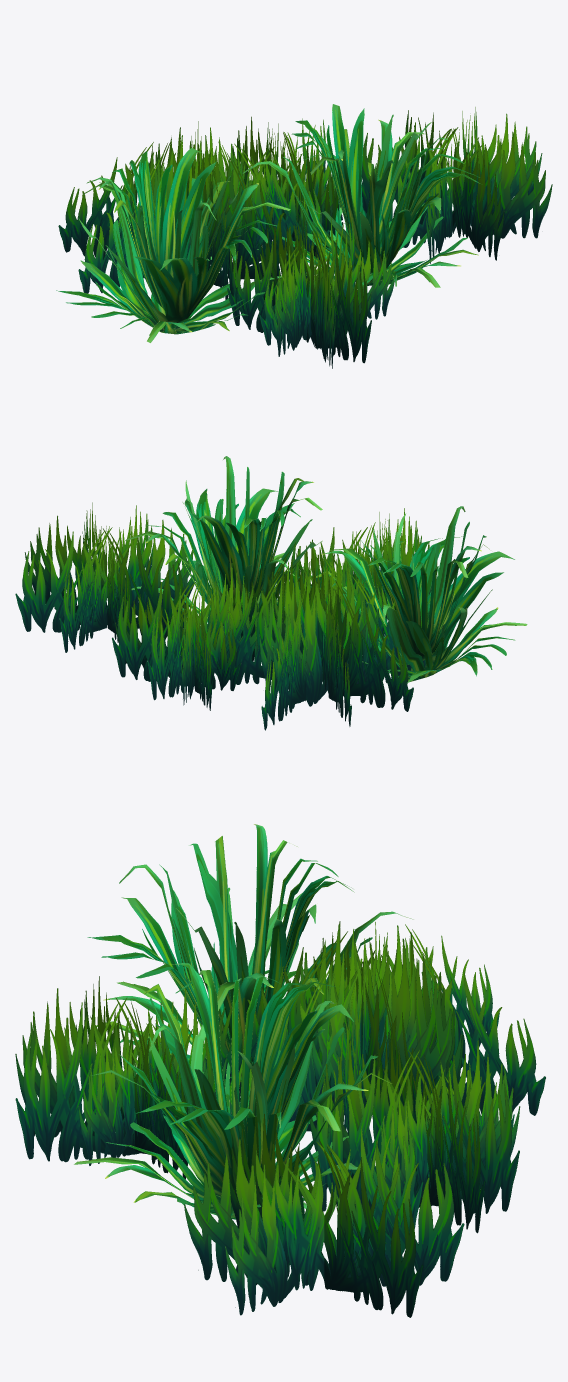
Rendered from grass.glb.
The picture shows the model from 3 angles, top to bottom: view 1: azimuth 30°, elevation 25°; view 2: azimuth 150°, elevation 25°; view 3: azimuth 270°, elevation 25°; orthographic projection. The views are drawn at different scales.
Parts seen in each view (by area): view 1: pPlane5, pPlane3, pPlane6, pPlane1, pPlane10, pPlane24, pPlane16, pPlane8, pPlane4, pPlane26, pPlane27, pPlane20 (+14 smaller); view 2: pPlane3, pPlane5, pPlane9, pPlane6, pPlane19, pPlane1, pPlane7, pPlane17, pPlane12, pPlane21, pPlane8, pPlane18 (+13 smaller); view 3: pPlane3, pPlane8, pPlane10, pPlane5, pPlane1, pPlane9, pPlane24, pPlane13, pPlane22, pPlane15, pPlane18, pPlane6 (+12 smaller).
Part boxes in pixels (x1=…): pPlane5: x1=82, y1=147, x2=238, y2=312; pPlane3: x1=291, y1=104, x2=457, y2=261; pPlane6: x1=78, y1=177, x2=290, y2=322; pPlane1: x1=242, y1=119, x2=480, y2=281; pPlane10: x1=361, y1=122, x2=552, y2=238; pPlane24: x1=257, y1=214, x2=371, y2=363; pPlane16: x1=58, y1=135, x2=242, y2=260; pPlane8: x1=401, y1=110, x2=504, y2=260; pPlane4: x1=56, y1=256, x2=281, y2=342; pPlane26: x1=272, y1=217, x2=357, y2=356; pPlane27: x1=227, y1=241, x2=371, y2=333; pPlane20: x1=153, y1=135, x2=329, y2=267; pPlane3: x1=182, y1=456, x2=322, y2=607; pPlane5: x1=346, y1=506, x2=489, y2=660; pPlane9: x1=15, y1=520, x2=195, y2=632; pPlane6: x1=316, y1=536, x2=514, y2=671; pPlane19: x1=256, y1=556, x2=413, y2=711; pPlane1: x1=125, y1=488, x2=322, y2=617; pPlane7: x1=24, y1=515, x2=189, y2=639; pPlane17: x1=273, y1=575, x2=425, y2=708; pPlane12: x1=111, y1=580, x2=258, y2=681; pPlane21: x1=200, y1=554, x2=378, y2=684; pPlane8: x1=59, y1=505, x2=154, y2=652; pPlane18: x1=261, y1=551, x2=346, y2=730; pPlane3: x1=144, y1=963, x2=353, y2=1192; pPlane8: x1=184, y1=1139, x2=464, y2=1286; pPlane10: x1=225, y1=1125, x2=423, y2=1315; pPlane5: x1=119, y1=824, x2=354, y2=1061; pPlane1: x1=91, y1=1001, x2=391, y2=1199; pPlane9: x1=229, y1=1114, x2=423, y2=1317; pPlane24: x1=15, y1=988, x2=227, y2=1162; pPlane13: x1=310, y1=1040, x2=519, y2=1213; pPlane22: x1=205, y1=938, x2=461, y2=1112; pPlane15: x1=308, y1=1040, x2=520, y2=1211; pPlane18: x1=284, y1=924, x2=545, y2=1115; pPlane6: x1=87, y1=887, x2=413, y2=1073.
Size of the model in its own units: 30.8 by 13.98 by 19.52.
2 materials, 2 textured.
